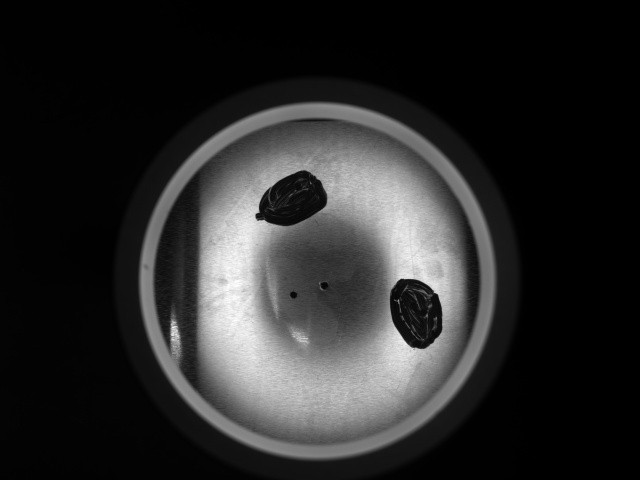zang_wu: (252, 168, 331, 228), (388, 276, 444, 351)
zhen_kong: (317, 280, 333, 294), (288, 288, 300, 301)
